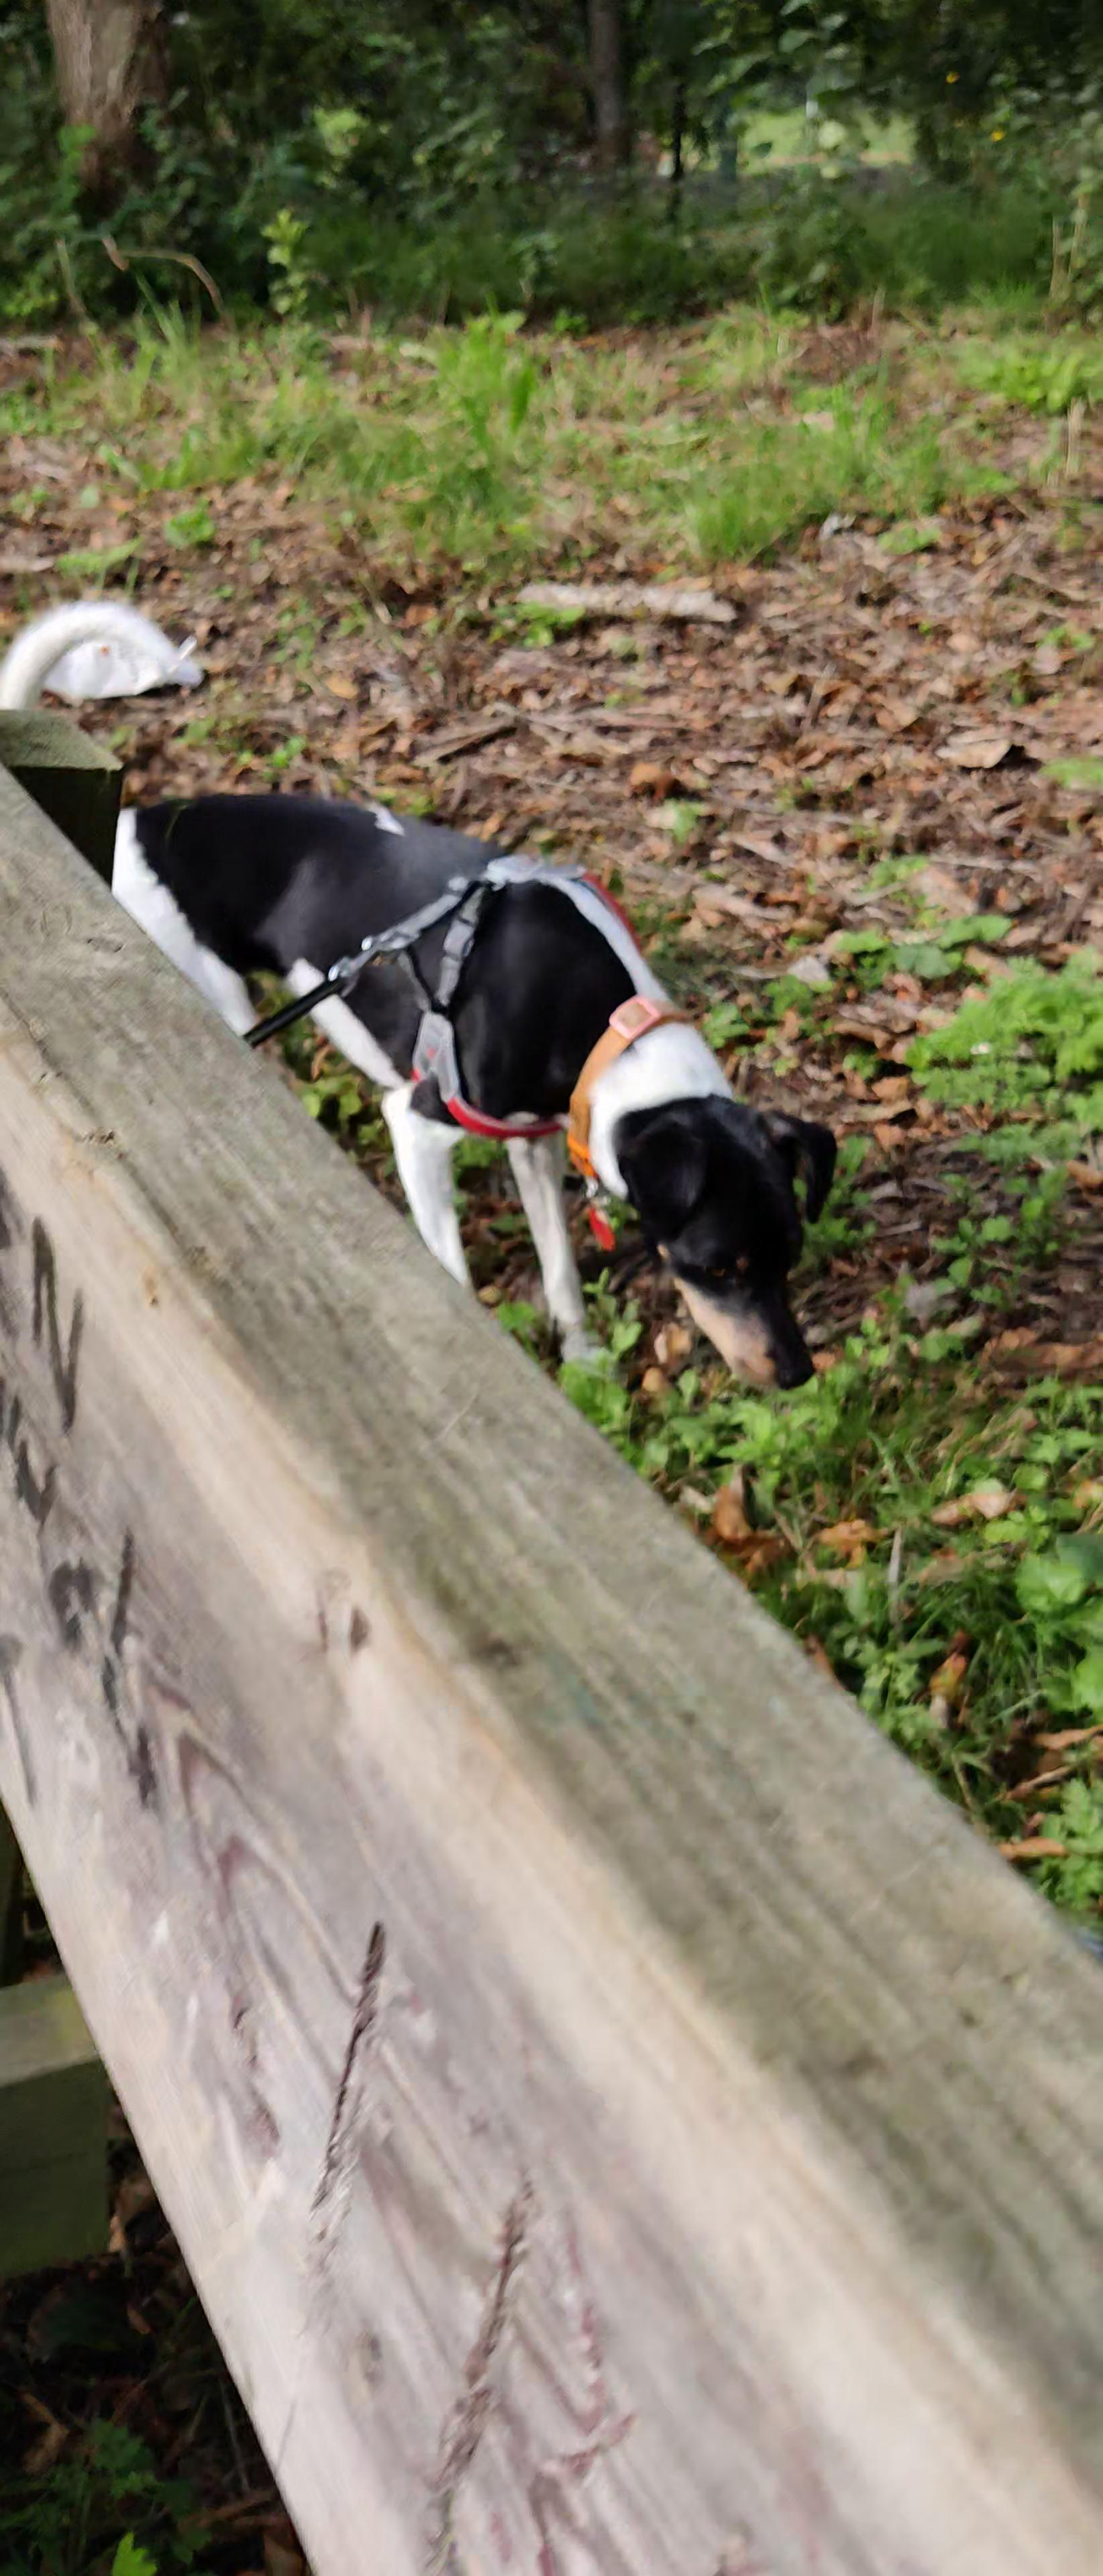Dog: (0, 585, 843, 1400)
